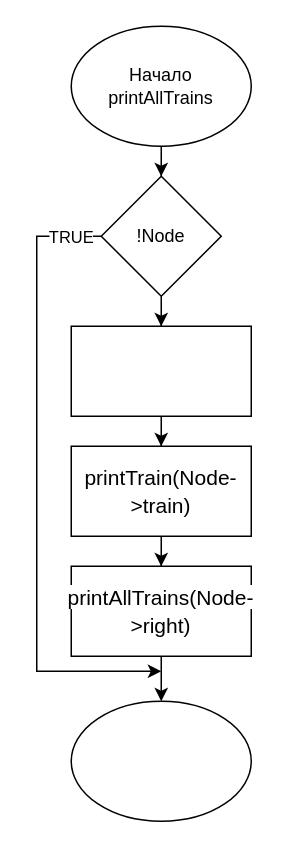
The diagram is 281 pixels wide and 848 high, and some of its shapes have lost their labels. The shapes that lost their labels are listed below. From the top down, each one's centre as x and y in pixels, then its label:
At (x=160, y=370): "printAllTrains(Node->left)".
At (x=160, y=760): "Конец".
